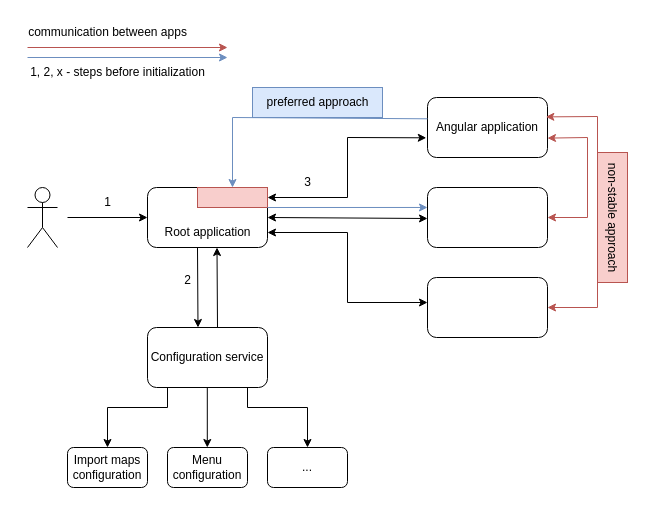
Image size: 645x505. Some labels were removed from this diagram. The shapes that lost their labels are listed below. From the top down, each one's centre as x and y in pixels, then its label:
At point 232,197: "Event bus".
At point 487,217: "React application".
At point 487,307: "Non-framework application".
